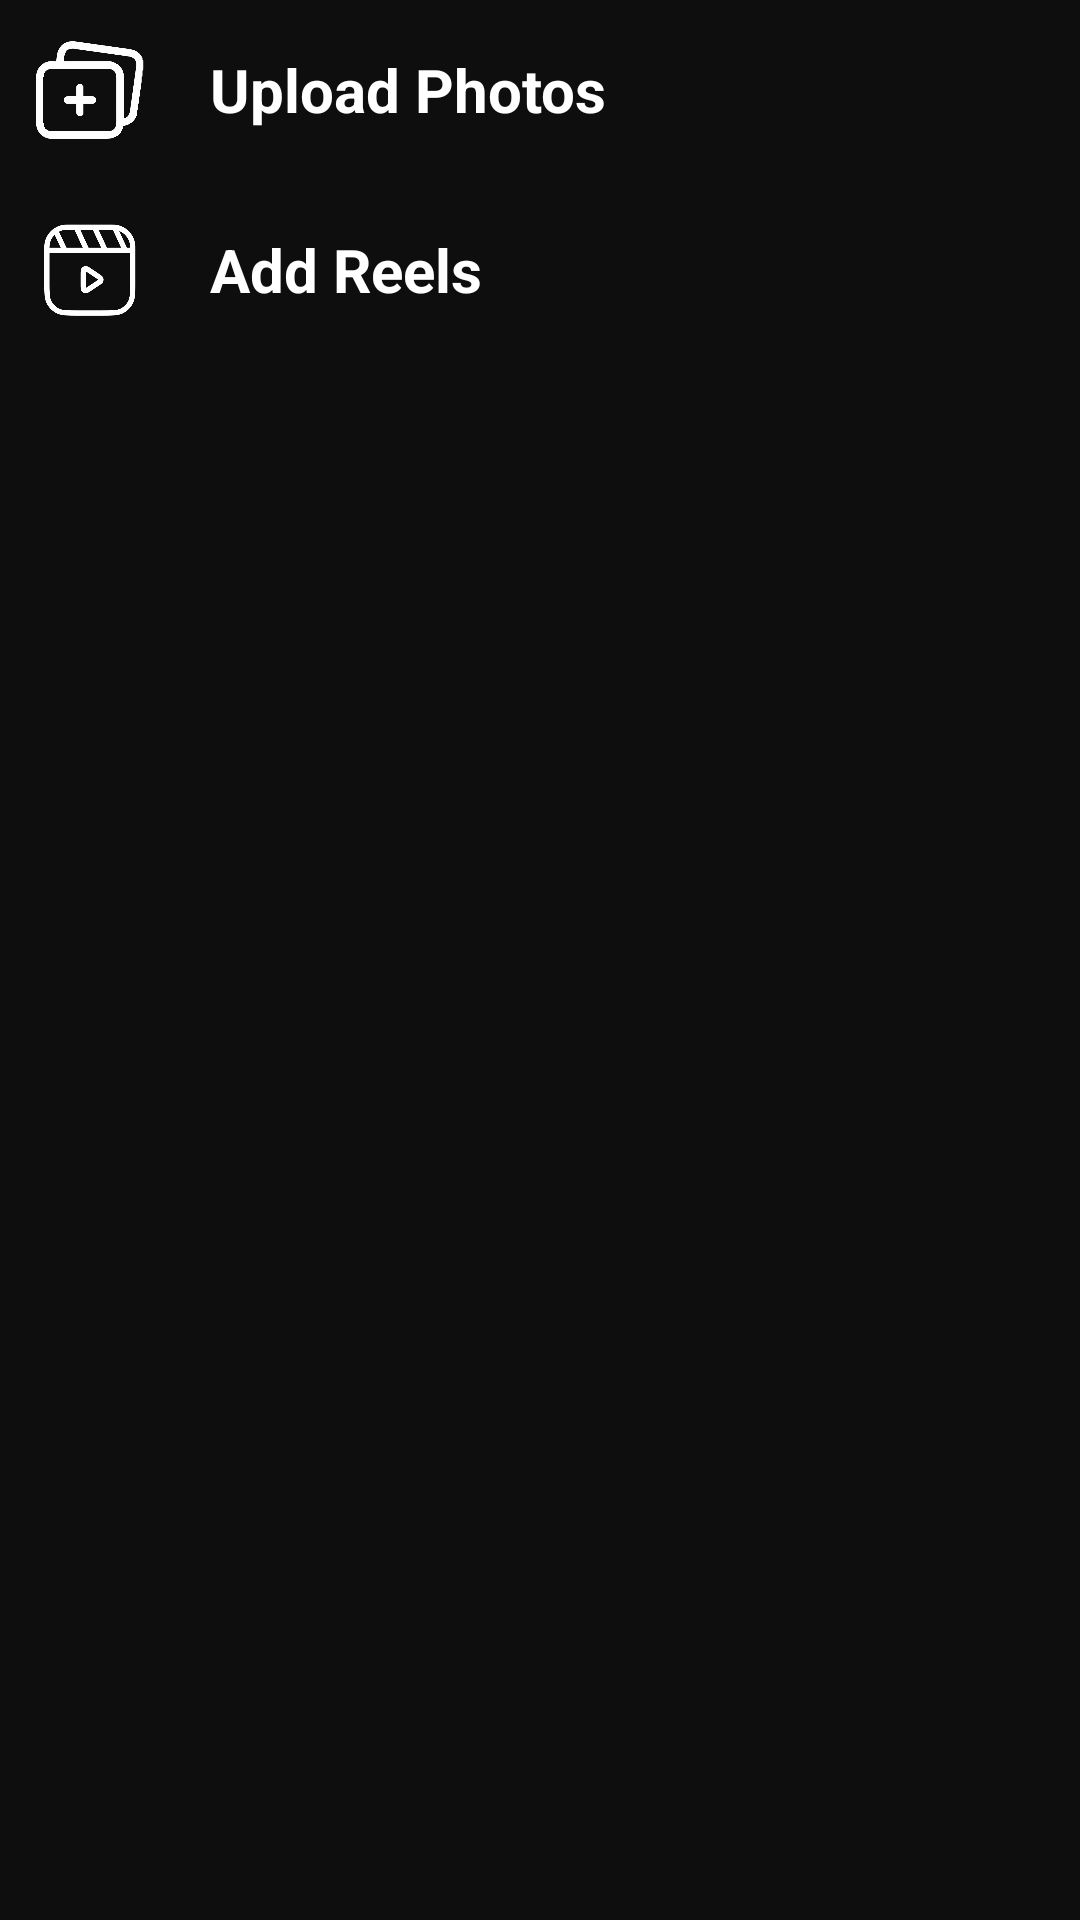

Icons on this 1080*1920 Android screen, each with its box as (x1, y1, x2, y2):
gallery: (36, 41, 144, 139)
